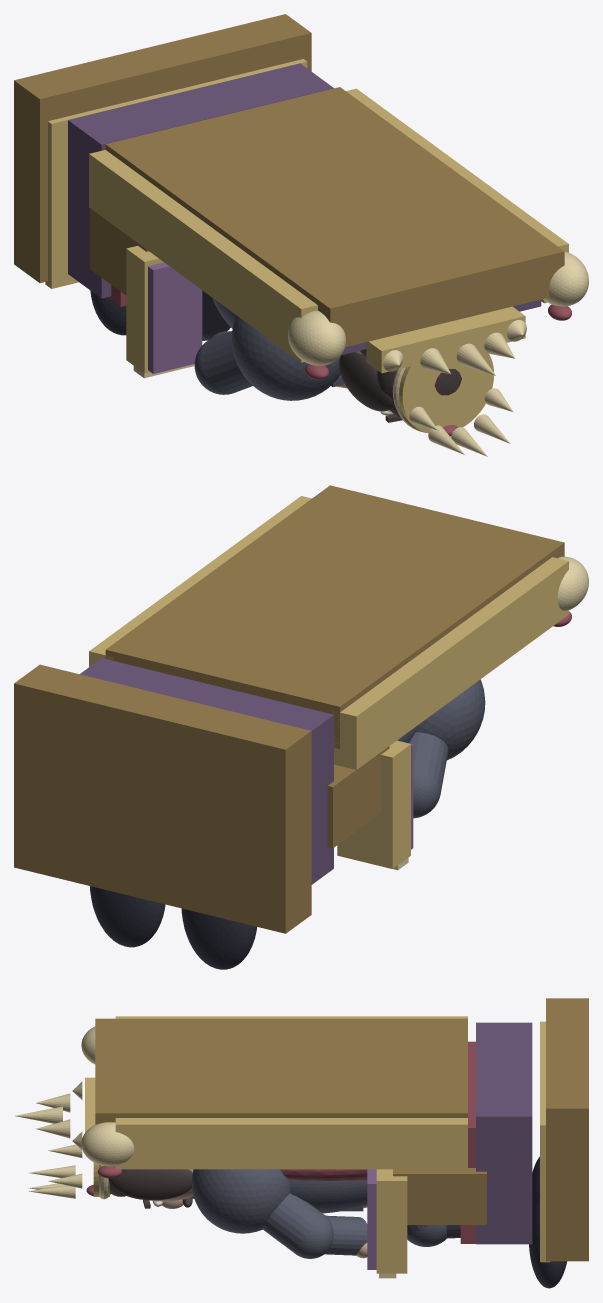
The model's file is royal-throne.glb.
3 renders of one model, top to bottom at view 1: azimuth 30°, elevation 25°; view 2: azimuth 150°, elevation 25°; view 3: azimuth 270°, elevation 25°, orthographic. The views are drawn at different scales.
Parts seen in each view (by area): view 1: throne_back_panel, throne_base, throne_side_column_-1, throne_seat, throne_armrest_pad_-1, throne_base_gold_inlay, king_shoulder_-1, crown_band, throne_crest_base, throne_armrest_-1, throne_side_column_1, throne_finial_-1 (+8 smaller); view 2: throne_base, throne_back_panel, throne_side_column_-1, throne_seat, throne_armrest_-1, throne_arm_support_-1, king_shoe_-1, king_shoe_1, king_shoulder_-1, throne_side_column_1, king_upper_arm_-1, throne_finial_-1 (+1 smaller); view 3: throne_back_panel, throne_side_column_1, throne_seat, throne_base, king_shoulder_1, throne_arm_support_1, throne_armrest_1, king_hair_lock_1, king_torso, king_upper_arm_1, throne_finial_1, throne_base_gold_inlay (+11 smaller).
Part boxes in pixels (x1,y1,x2,y2): throne_back_panel: [105, 87, 564, 347]; throne_base: [14, 14, 311, 282]; throne_side_column_-1: [89, 150, 317, 362]; throne_seat: [68, 63, 333, 298]; throne_armrest_pad_-1: [148, 262, 202, 373]; throne_base_gold_inlay: [45, 59, 307, 288]; king_shoulder_-1: [231, 315, 340, 400]; crown_band: [399, 348, 493, 433]; throne_crest_base: [366, 306, 525, 373]; throne_armrest_-1: [126, 245, 163, 373]; throne_side_column_1: [346, 88, 568, 303]; throne_finial_-1: [288, 310, 345, 365]; throne_base: [14, 664, 311, 933]; throne_back_panel: [105, 485, 564, 749]; throne_side_column_-1: [332, 557, 568, 769]; throne_seat: [80, 658, 333, 884]; throne_armrest_-1: [337, 740, 410, 868]; throne_arm_support_-1: [327, 746, 389, 848]; king_shoe_-1: [181, 908, 256, 969]; king_shoe_1: [90, 886, 165, 947]; king_shoulder_-1: [415, 679, 485, 760]; throne_side_column_1: [89, 496, 311, 666]; king_upper_arm_-1: [409, 732, 448, 792]; throne_finial_-1: [557, 556, 588, 610]; throne_back_panel: [95, 1018, 467, 1124]; throne_side_column_1: [115, 1118, 467, 1169]; throne_seat: [476, 1022, 532, 1244]; throne_base: [546, 998, 588, 1261]; king_shoulder_1: [191, 1169, 289, 1233]; throne_arm_support_1: [393, 1168, 486, 1224]; throne_armrest_1: [376, 1169, 407, 1273]; king_hair_lock_1: [110, 1169, 192, 1200]; king_torso: [289, 1179, 367, 1213]; king_upper_arm_1: [262, 1193, 323, 1253]; throne_finial_1: [81, 1122, 134, 1166]; throne_base_gold_inlay: [540, 1021, 550, 1262].
Bounding box in the file's own units: 2.72 × 2.31 × 5.63.
